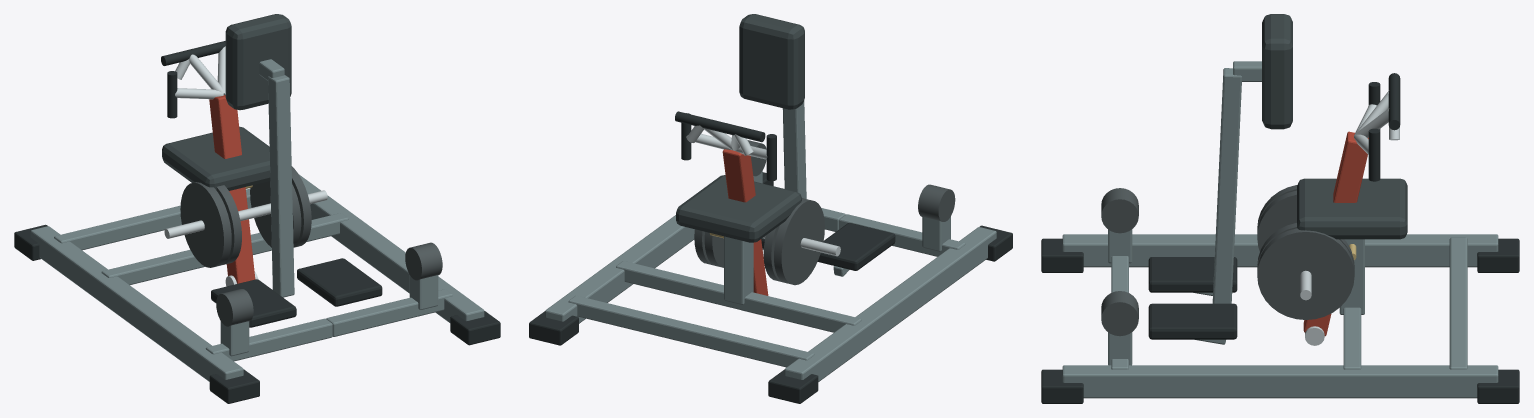
Rendered from row-machine.v2.glb.
The picture shows the model from 3 angles, left to right: view 1: azimuth 30°, elevation 25°; view 2: azimuth 150°, elevation 25°; view 3: azimuth 270°, elevation 25°; orthographic projection. The views are drawn at different scales.
Visible parts, largest first — view 1: Base crossmember, Floor shoe, Chest pad, Adjustable seat, Load plate.002, Independent row arm, Bearing housing, Load plate, Handle bracket, Handle bracket.001, Neutral grip; view 2: Base crossmember, Chest pad, Floor shoe, Adjustable seat, Load plate.002, Independent row arm, Bearing housing, Neutral grip, Handle bracket.001, Neutral grip.001, Load plate, Handle bracket; view 3: Base crossmember, Floor shoe, Load plate, Adjustable seat, Chest pad, Bearing housing, Independent row arm, Load plate.002, Handle bracket, Neutral grip.001, Handle bracket.001, Neutral grip.
Part boxes in pixels (x1=…): Base crossmember: x1=30, y1=59, x2=484, y2=381; Floor shoe: x1=14, y1=224, x2=500, y2=403; Chest pad: x1=225, y1=14, x2=291, y2=110; Adjustable seat: x1=162, y1=126, x2=270, y2=190; Load plate.002: x1=180, y1=182, x2=241, y2=267; Independent row arm: x1=209, y1=95, x2=255, y2=283; Bearing housing: x1=216, y1=242, x2=442, y2=326; Load plate: x1=250, y1=166, x2=311, y2=247; Handle bracket: x1=175, y1=46, x2=327, y2=286; Handle bracket.001: x1=164, y1=54, x2=257, y2=285; Neutral grip: x1=161, y1=41, x2=225, y2=118; Base crossmember: x1=545, y1=100, x2=996, y2=381; Chest pad: x1=739, y1=14, x2=804, y2=109; Floor shoe: x1=529, y1=172, x2=1012, y2=403; Adjustable seat: x1=676, y1=175, x2=801, y2=242; Load plate.002: x1=763, y1=198, x2=824, y2=285; Independent row arm: x1=722, y1=149, x2=768, y2=295; Bearing housing: x1=747, y1=140, x2=955, y2=221; Neutral grip: x1=700, y1=118, x2=776, y2=181; Handle bracket.001: x1=686, y1=133, x2=840, y2=256; Neutral grip.001: x1=675, y1=111, x2=736, y2=160; Load plate: x1=694, y1=229, x2=723, y2=267; Handle bracket: x1=686, y1=125, x2=767, y2=316; Base crossmember: x1=1062, y1=61, x2=1498, y2=398; Floor shoe: x1=1041, y1=238, x2=1519, y2=403; Load plate: x1=1257, y1=223, x2=1354, y2=319; Adjustable seat: x1=1297, y1=178, x2=1407, y2=239; Chest pad: x1=1262, y1=14, x2=1292, y2=129; Bearing housing: x1=1101, y1=188, x2=1138, y2=336; Independent row arm: x1=1303, y1=131, x2=1368, y2=336; Load plate.002: x1=1257, y1=185, x2=1297, y2=251; Handle bracket: x1=1300, y1=104, x2=1399, y2=345; Neutral grip.001: x1=1368, y1=89, x2=1400, y2=181; Handle bracket.001: x1=1305, y1=90, x2=1389, y2=344; Neutral grip: x1=1368, y1=73, x2=1400, y2=130.
Bounding box in the file's own units: 1.59 × 1.56 × 2.16.
